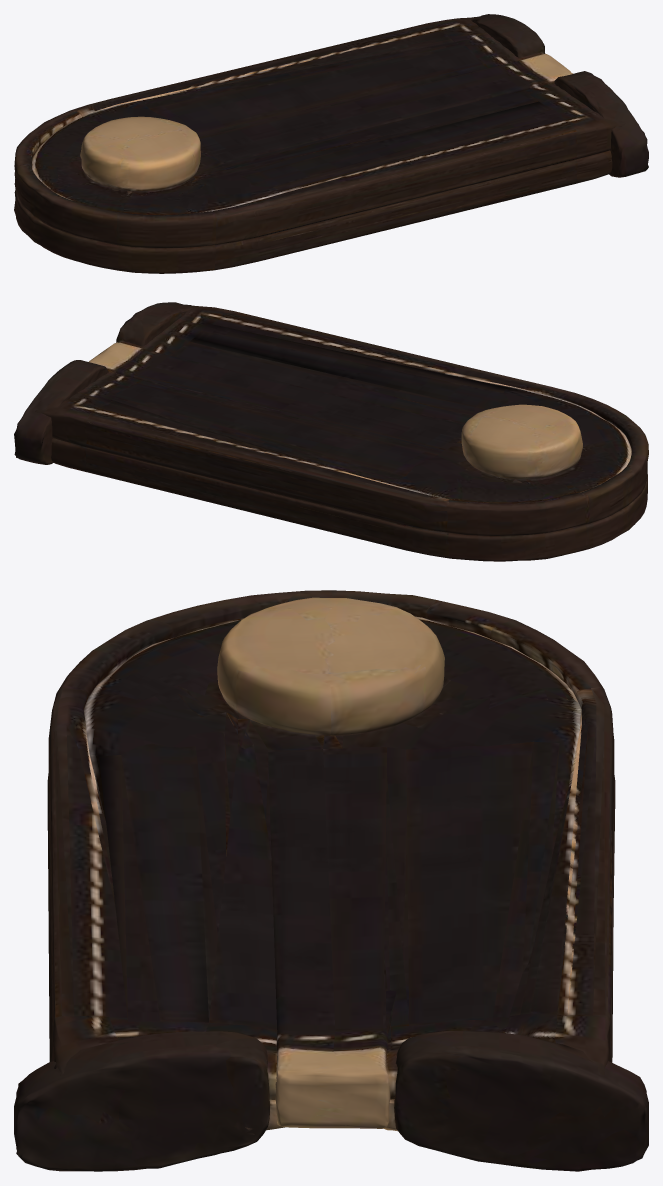
The model's file is executive-meshy-clasp-strap.glb.
3 views of the same model, one above another, from view 1: azimuth 30°, elevation 25°; view 2: azimuth 150°, elevation 25°; view 3: azimuth 270°, elevation 25° (orthographic). The views are drawn at different scales.
Parts seen in each view (by area): view 1: Mesh_0; view 2: Mesh_0; view 3: Mesh_0.
Part boxes in pixels (box(x1,y1,x2,y2)): Mesh_0: box(14, 14, 648, 273); Mesh_0: box(14, 302, 648, 561); Mesh_0: box(14, 590, 648, 1171).
Bounding box in the file's own units: 0.134 × 0.02 × 0.0745.
Materials: 1 (1 with a texture image).
